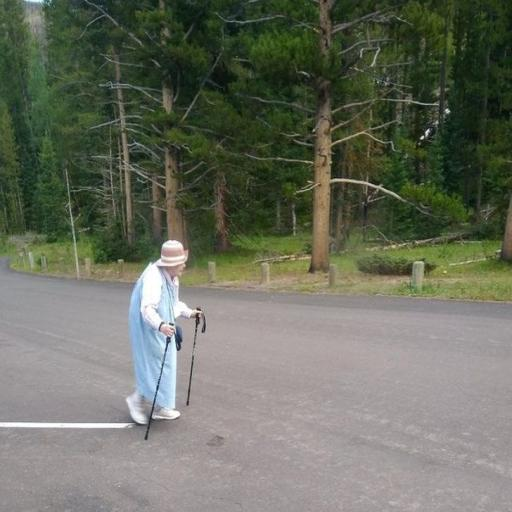crosswalk: (126, 240, 202, 425)
glass_wall: (0, 260, 512, 512)
